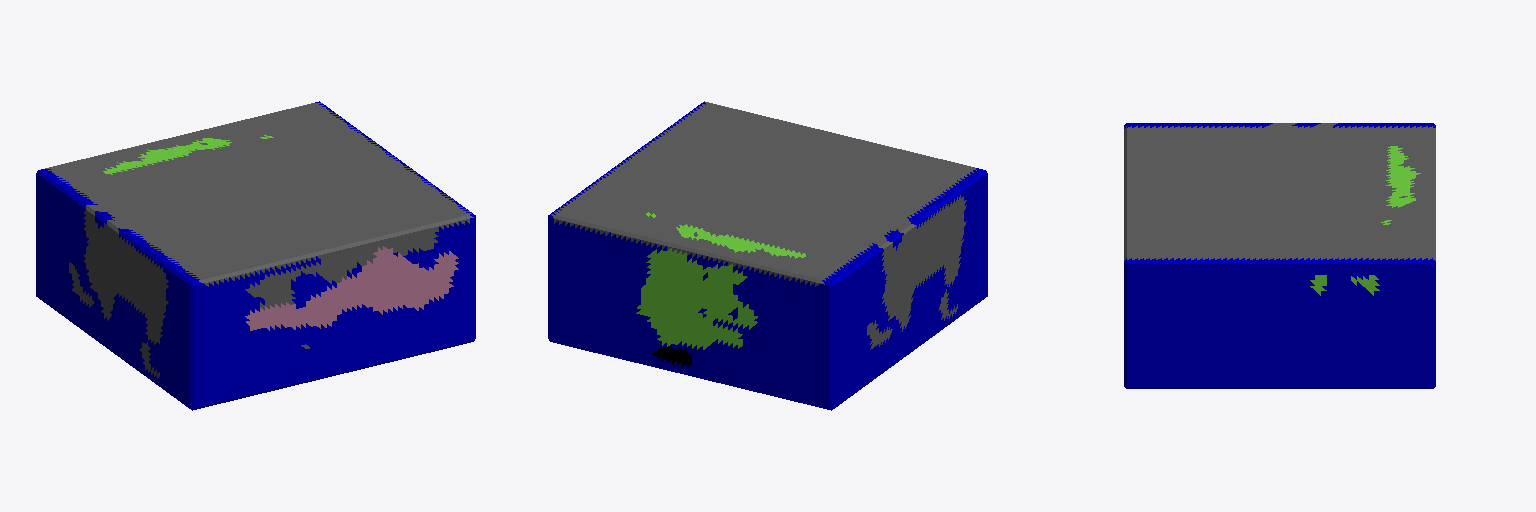
3 renders of one model, left to right at view 1: azimuth 30°, elevation 25°; view 2: azimuth 150°, elevation 25°; view 3: azimuth 270°, elevation 25°, orthographic.
Visible parts, largest first — view 1: Input_prediction_mesh; view 2: Input_prediction_mesh; view 3: Input_prediction_mesh.
Part boxes in pixels (bbox=[...]): Input_prediction_mesh: bbox=[36, 101, 475, 410]; Input_prediction_mesh: bbox=[548, 101, 987, 410]; Input_prediction_mesh: bbox=[1124, 123, 1435, 388].
Bounding box in the file's own units: 4.48 × 1.92 × 4.24.